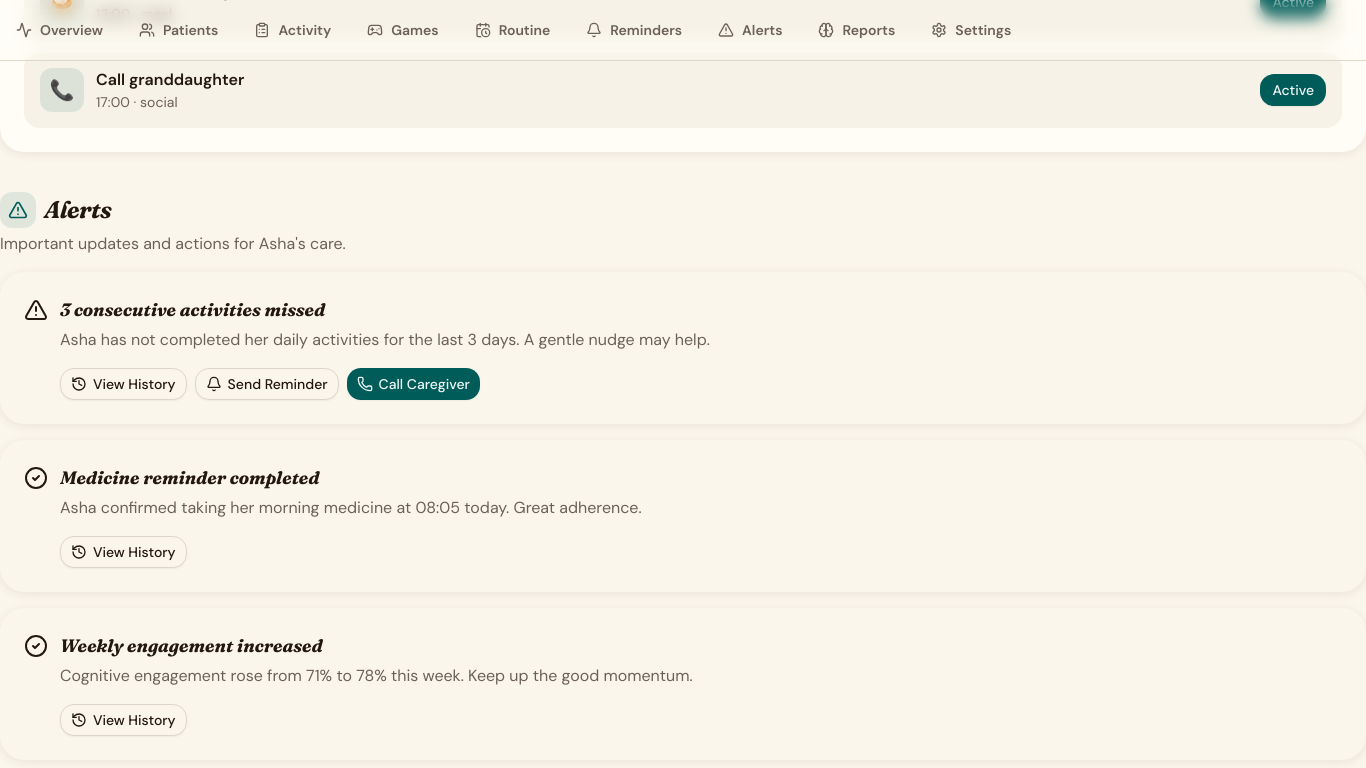
it: CaregiverDashboardPage › shows alerts with working actions
(page scrolled)
Step 1. Click the button with test id "caregiver.alert.action.alert-missed.send_reminder" → (267,384), box [195,368,339,400]
(page scrolled)
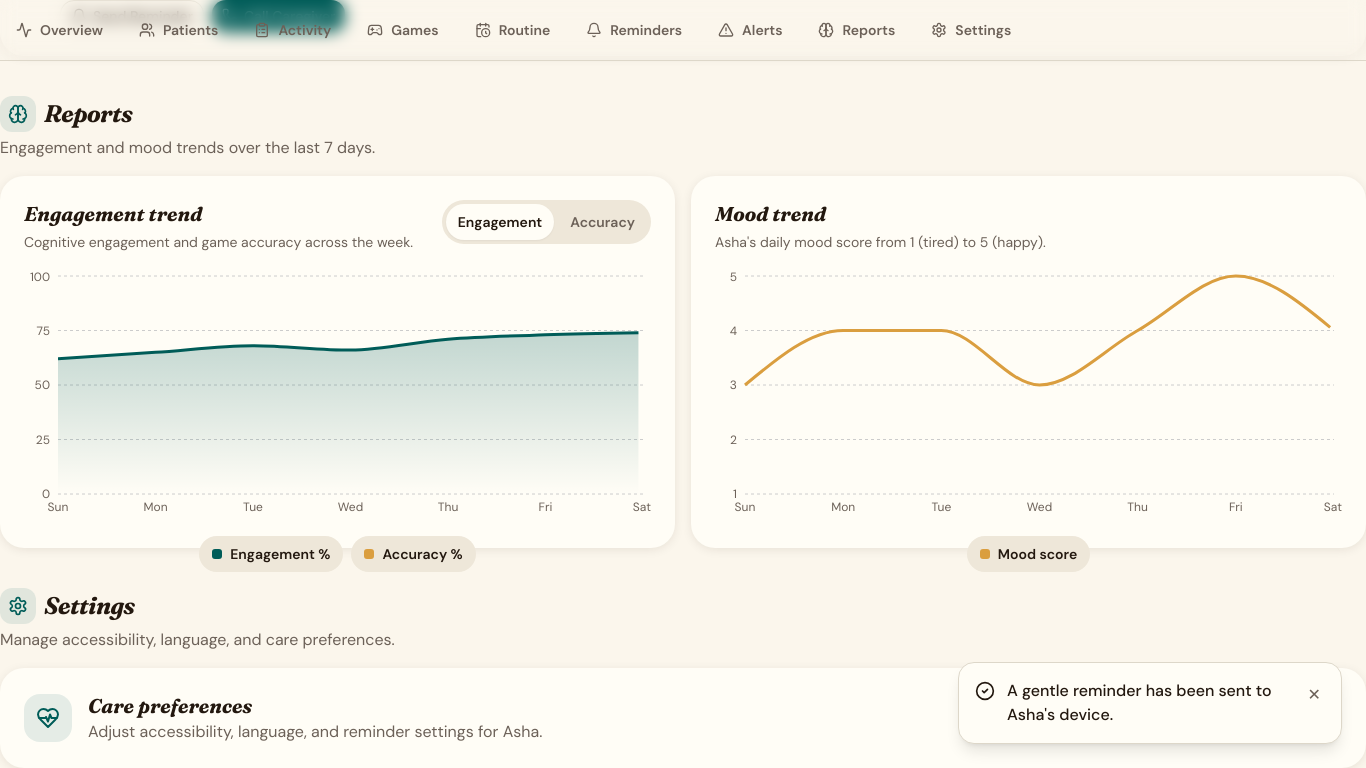
Now the text "A gentle reminder has been sent to Asha's device." is shown, box [1007,679,1292,727]
